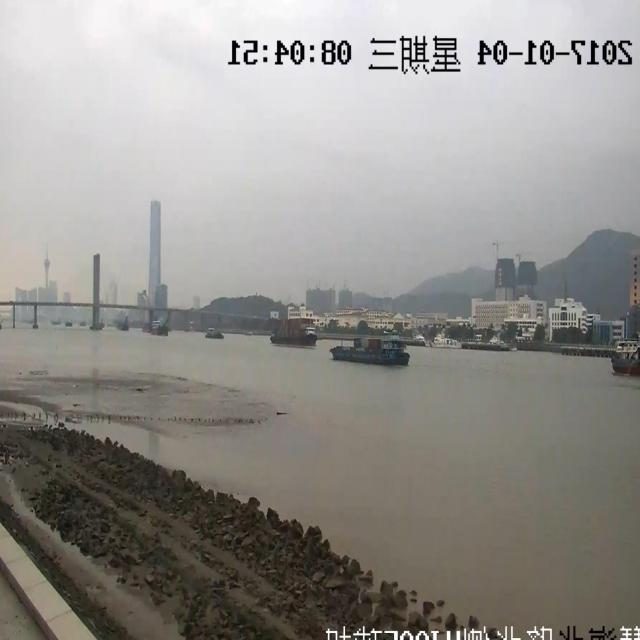cargoship: (326, 314, 408, 372), (259, 318, 317, 357), (590, 332, 640, 374), (204, 318, 222, 344)
